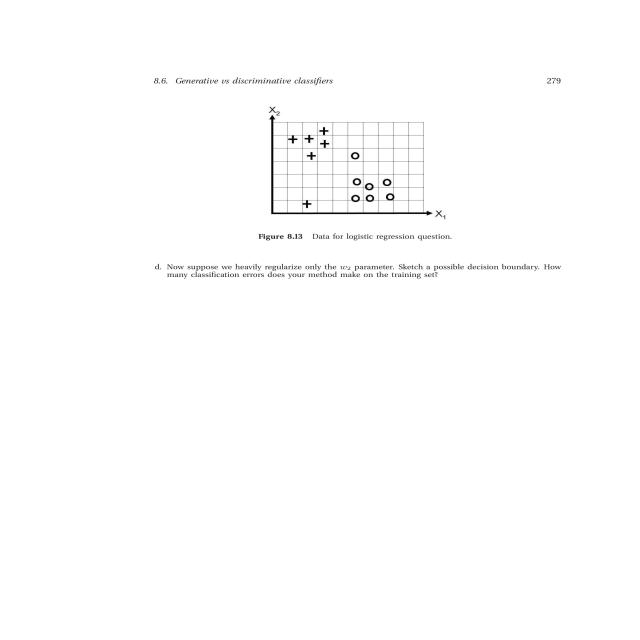diagram: (142, 66, 512, 246)
